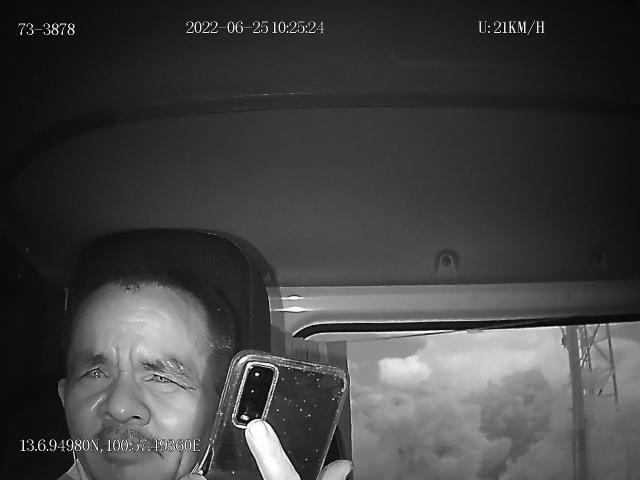PhoneUse: (206, 350, 350, 480)
SafeDriving: (136, 360, 184, 392), (74, 354, 116, 389)
